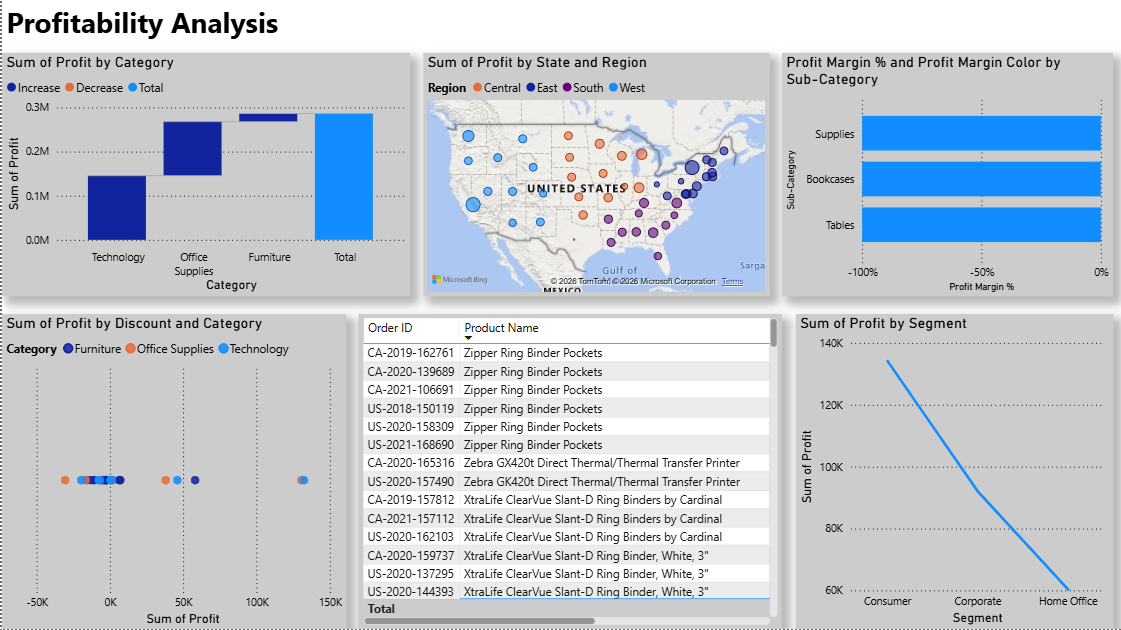

The page's visual inventory and layout, read from the dashboard file:
{"tool":"powerbi","page":{"name":"Page 3","canvas":[1280,720],"ordinal":2},"visuals":[{"type":"waterfallChart","fields":{"Y":["Sum(E-Commerce.Profit)"],"Category":["E-Commerce.Category"]},"box":[18.6,61.4,448.6,278.6],"z":0},{"type":"scatterChart","fields":{"Category":["E-Commerce.Discount"],"X":["Sum(E-Commerce.Profit)"],"Series":["E-Commerce.Category"]},"box":[18.6,360,375.7,360],"z":1000},{"type":"map","fields":{"Series":["E-Commerce.Region"],"Category":["E-Commerce.State"],"Size":["Sum(E-Commerce.Profit)"]},"box":[481.4,61.4,395.7,278.6],"z":2000},{"type":"tableEx","fields":{"Values":["E-Commerce.Order ID","E-Commerce.Product Name","Sum(E-Commerce.Sales)","Sum(E-Commerce.Discount)","Sum(E-Commerce.Profit)"]},"box":[407.1,360,484.3,360],"z":3000},{"type":"lineChart","fields":{"Y":["Sum(E-Commerce.Profit)"],"Category":["E-Commerce.Segment"]},"box":[907.1,360,362.9,360],"z":4000},{"type":"hundredPercentStackedBarChart","fields":{"Y":["measure_.Profit Margin %"],"Category":["E-Commerce.Sub-Category"]},"box":[891.4,61.4,378.6,278.6],"z":5000},{"type":"textbox","box":[52.9,0,381.4,61.4],"z":6000}]}

Visuals, with their boxes in screenshot pixels (x1, y1, x2, y2), scaled from the page's 1280x720 canvas onto the 1121x630 screenshot:
waterfallChart - Sum(E-Commerce.Profit) x E-Commerce.Category: locate(16, 54, 409, 298)
scatterChart - E-Commerce.Discount x Sum(E-Commerce.Profit): locate(16, 315, 345, 629)
map - E-Commerce.Region x E-Commerce.State: locate(422, 54, 768, 298)
tableEx - E-Commerce.Order ID x E-Commerce.Product Name: locate(357, 315, 781, 629)
lineChart - Sum(E-Commerce.Profit) x E-Commerce.Segment: locate(794, 315, 1112, 629)
hundredPercentStackedBarChart - measure_.Profit Margin % x E-Commerce.Sub-Category: locate(781, 54, 1112, 298)
textbox: locate(46, 0, 380, 54)
